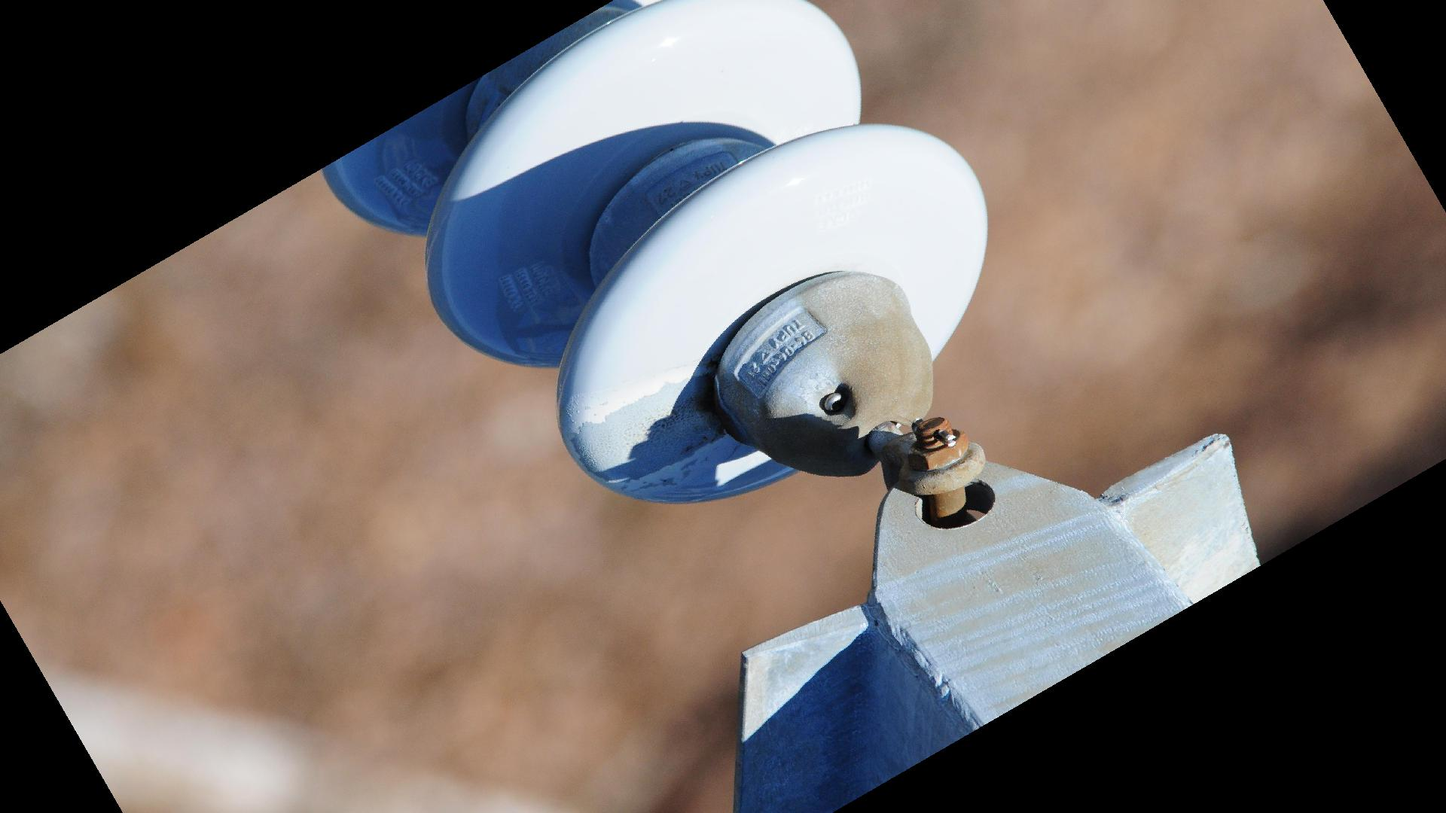insulator: (316, 1, 996, 513)
insulator_flashover: (570, 369, 731, 488)
